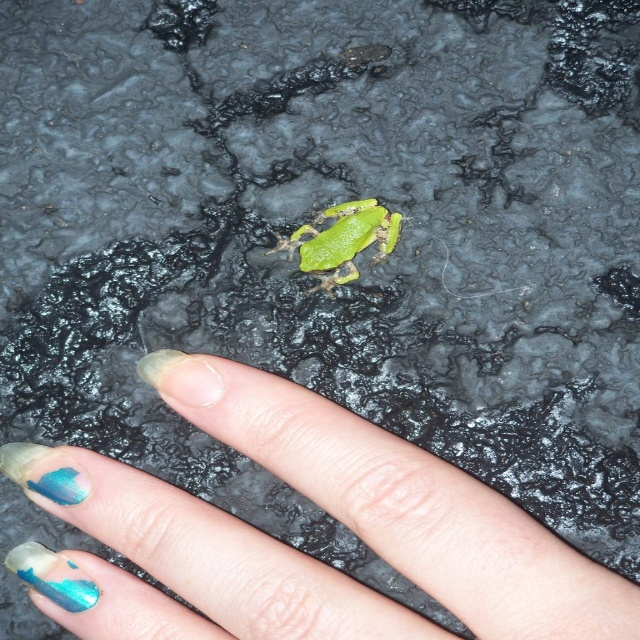Frog: (262, 197, 404, 299)
